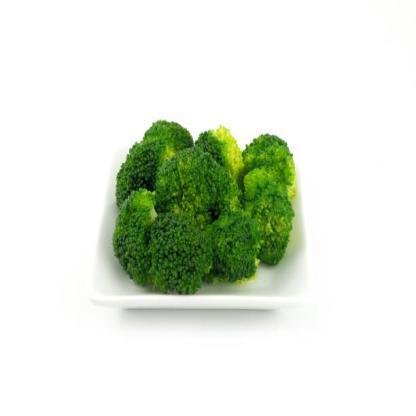broccoli: (110, 119, 298, 298)
